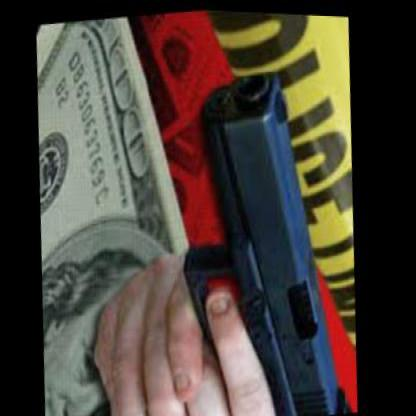pistol: (165, 48, 369, 415)
